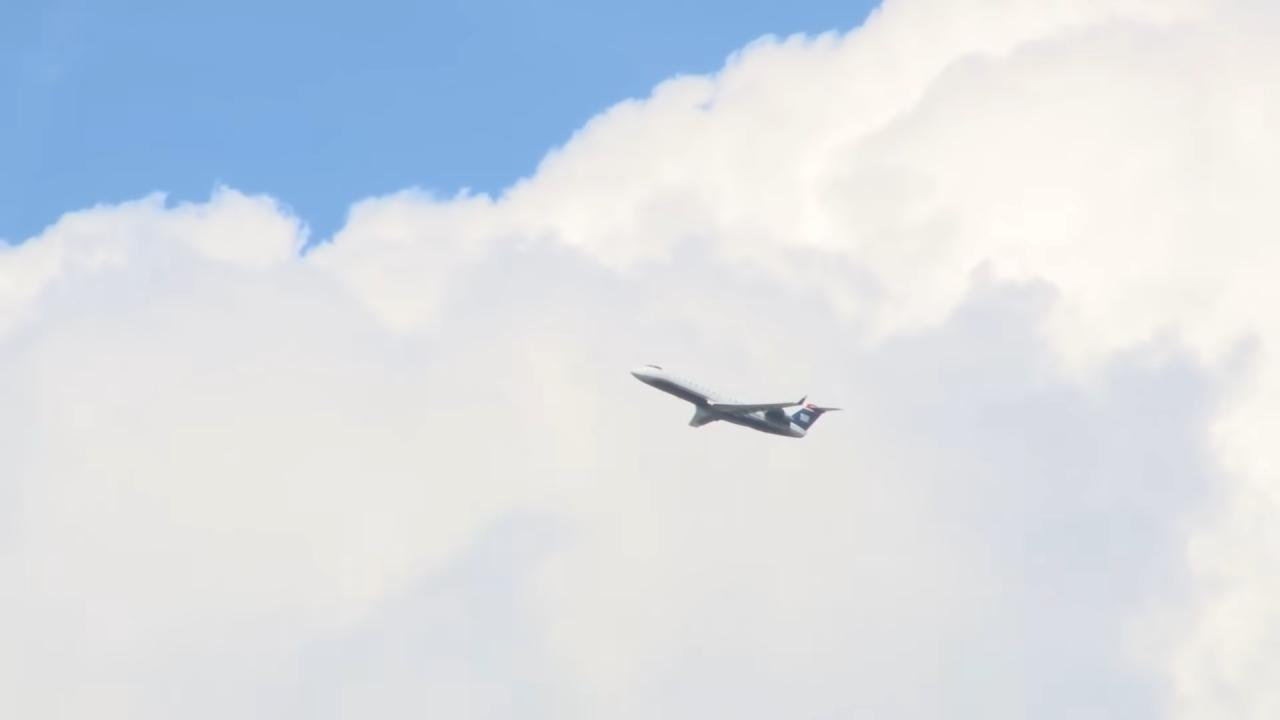Airplane: (619, 347, 852, 451)
